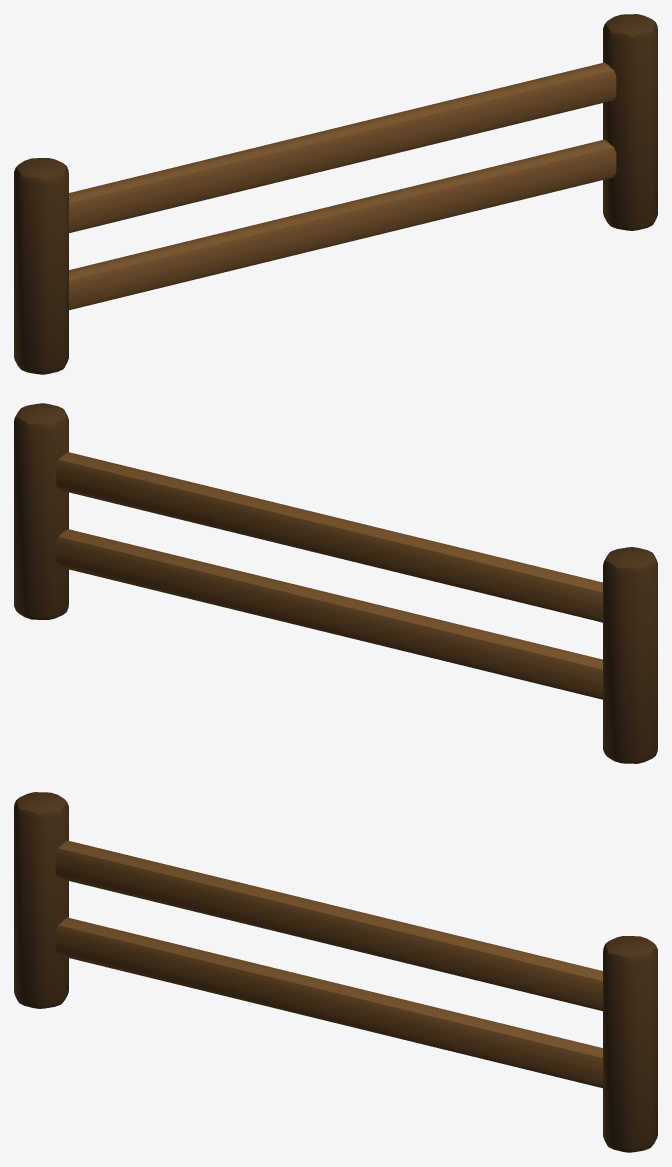
File: prop_fence.glb
3 views of the same model, one above another, from view 1: azimuth 30°, elevation 25°; view 2: azimuth 150°, elevation 25°; view 3: azimuth 330°, elevation 25° (orthographic).
Visible parts, largest first — view 1: fence_rail2, fence_rail1, fence_post1, fence_post2; view 2: fence_rail1, fence_rail2, fence_post1, fence_post2; view 3: fence_rail2, fence_rail1, fence_post2, fence_post1.
Part boxes in pixels (x1,y1,x2,y2): fence_rail2: (69, 139, 616, 310); fence_rail1: (69, 62, 616, 232); fence_post1: (14, 158, 68, 374); fence_post2: (603, 14, 657, 230); fence_rail1: (56, 452, 602, 622); fence_rail2: (56, 529, 602, 699); fence_post1: (603, 547, 657, 763); fence_post2: (14, 403, 68, 619); fence_rail2: (55, 917, 602, 1088); fence_rail1: (55, 840, 602, 1010); fence_post2: (603, 936, 657, 1152); fence_post1: (14, 792, 68, 1008).
Bounding box in the file's own units: 1.73 × 0.52 × 0.129.
